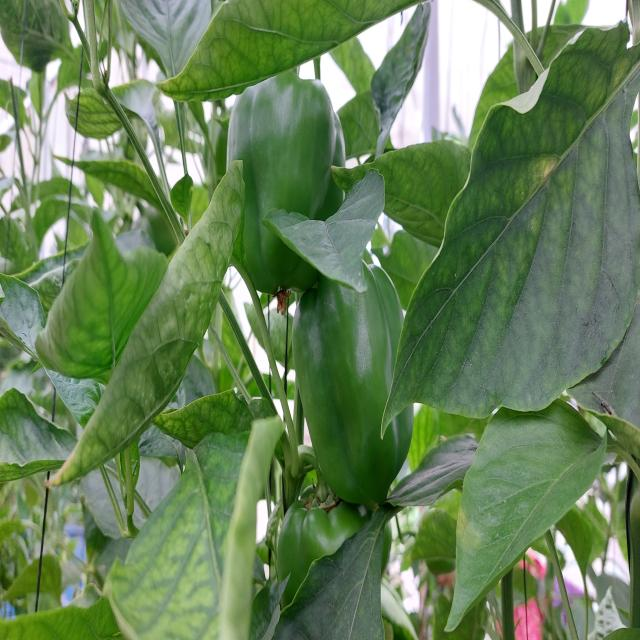Green--Not-ready-to-harvest: (298, 265, 420, 517), (227, 85, 345, 281)
